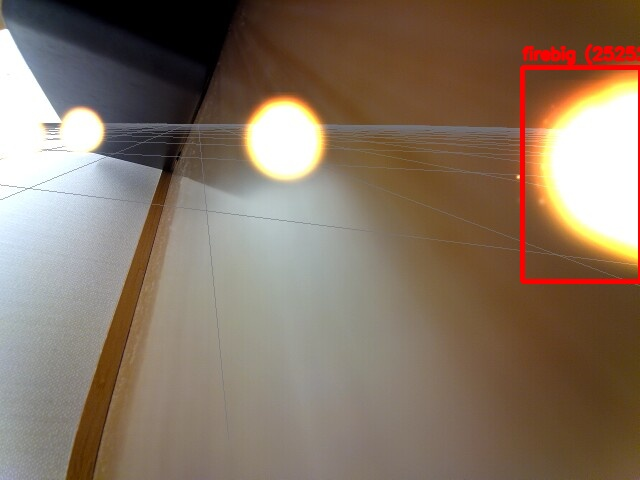firebig: (522, 67, 640, 281)
